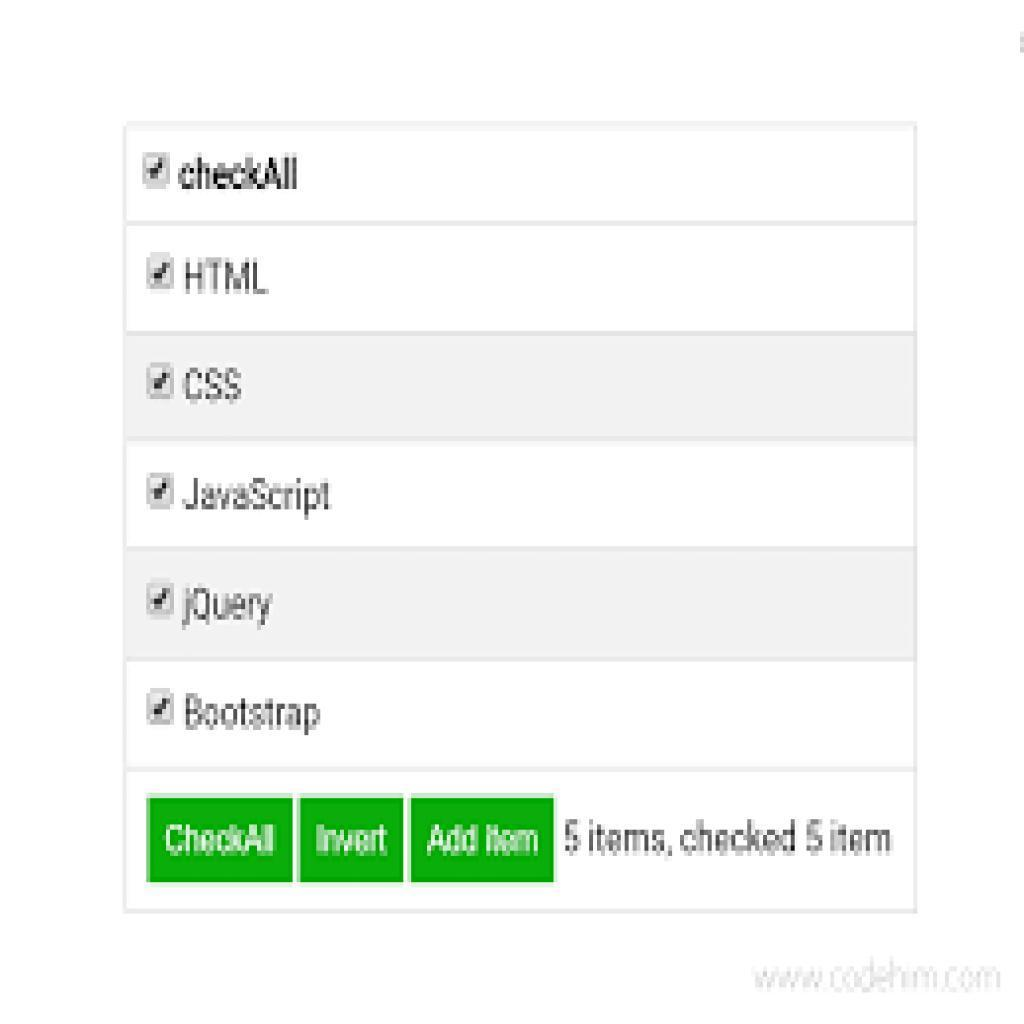button: (150, 799, 294, 882), (411, 800, 557, 881), (301, 800, 404, 884)
checkbox: (146, 359, 177, 401), (146, 252, 177, 293), (145, 578, 176, 618), (146, 470, 176, 511), (145, 691, 177, 726), (143, 150, 169, 192)
label: (560, 811, 901, 870), (185, 685, 333, 738), (181, 477, 333, 520), (175, 152, 304, 197), (184, 582, 280, 631), (182, 254, 276, 303), (182, 363, 252, 414)
